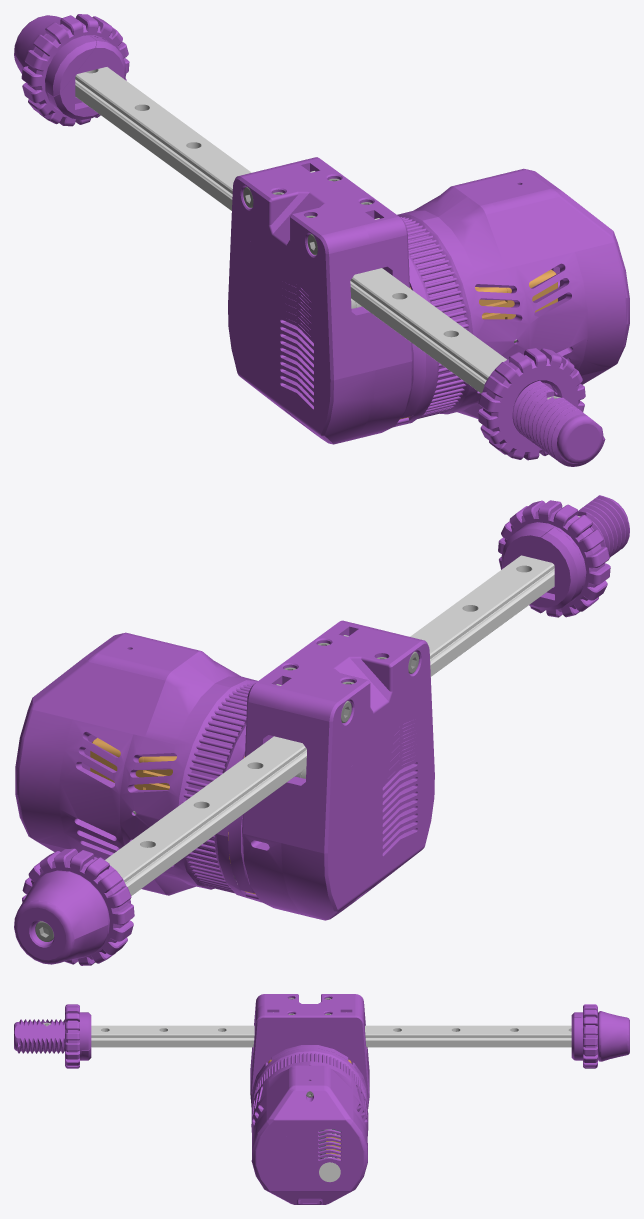
The model's file is ossm-alt.glb.
The picture shows the model from 3 angles, top to bottom: view 1: azimuth 30°, elevation 25°; view 2: azimuth 150°, elevation 25°; view 3: azimuth 270°, elevation 25°; orthographic projection. The views are drawn at different scales.
Visible parts, largest first — view 1: main-mount-top#1, 57aim-clamp#1, mgn15h-400mm-rail-part-1#1, motor-cover#1, main-mount-motor-side#1, topcover#1, nut#1, thread#1, nut#2, rear-mount-thread#1, tightener#2, motor#1 (+1 smaller); view 2: main-mount-top#1, 57aim-clamp#1, mgn15h-400mm-rail-part-1#1, motor-cover#1, main-mount-motor-side#1, topcover#1, cover#1, thread#1, nut#1, nut#2, tightener#1, motor#1; view 3: topcover#1, mgn15h-400mm-rail-part-1#1, main-mount-motor-side#1, 57aim-clamp#1, motor-cover#1, thread#1, cover#1, main-mount-top#1, nut#1, nut#2, rear-mount-thread#1, tightener#1 (+1 smaller).
Part boxes in pixels (x1,y1,x2,y2): main-mount-top#1: [228, 166, 375, 444]; 57aim-clamp#1: [393, 183, 529, 427]; mgn15h-400mm-rail-part-1#1: [75, 67, 506, 393]; motor-cover#1: [463, 169, 587, 370]; main-mount-motor-side#1: [281, 157, 412, 441]; topcover#1: [521, 168, 629, 384]; nut#1: [477, 348, 585, 460]; thread#1: [481, 359, 605, 466]; nut#2: [21, 14, 129, 126]; rear-mount-thread#1: [47, 36, 126, 119]; tightener#2: [45, 35, 106, 108]; motor#1: [399, 269, 557, 419]; main-mount-top#1: [281, 630, 434, 920]; 57aim-clamp#1: [120, 648, 261, 902]; mgn15h-400mm-rail-part-1#1: [105, 555, 554, 895]; motor-cover#1: [59, 633, 189, 892]; main-mount-motor-side#1: [242, 620, 380, 917]; topcover#1: [15, 632, 129, 852]; cover#1: [14, 870, 109, 964]; thread#1: [502, 495, 629, 610]; nut#1: [498, 500, 610, 617]; nut#2: [22, 848, 134, 965]; tightener#1: [501, 522, 586, 599]; motor#1: [90, 738, 255, 894]; topcover#1: [251, 1085, 367, 1204]; mgn15h-400mm-rail-part-1#1: [91, 1025, 571, 1047]; main-mount-motor-side#1: [250, 1005, 369, 1109]; 57aim-clamp#1: [251, 1045, 368, 1135]; motor-cover#1: [252, 1069, 367, 1137]; thread#1: [14, 1012, 91, 1060]; cover#1: [598, 1011, 629, 1061]; main-mount-top#1: [250, 994, 369, 1080]; nut#1: [65, 1004, 79, 1068]; nut#2: [583, 1004, 597, 1068]; rear-mount-thread#1: [571, 1017, 581, 1060]; tightener#1: [80, 1012, 91, 1060].
Size of the model in its own units: 0.1386 by 0.1069 by 0.4215.
